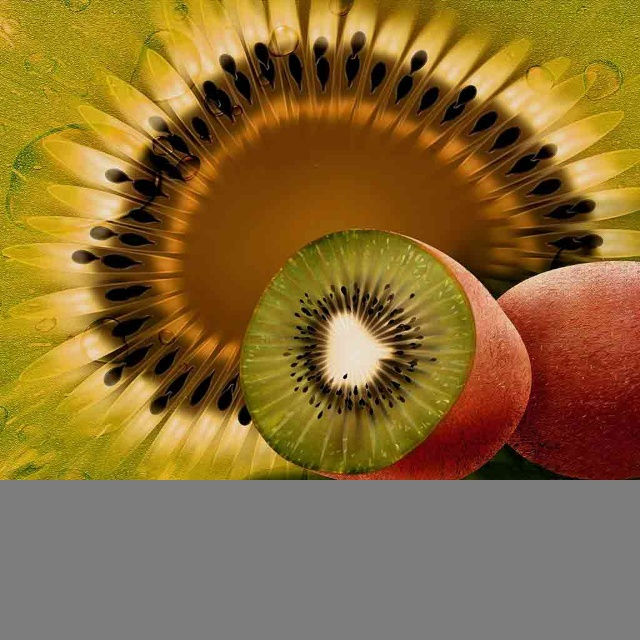kiwi: (71, 15, 587, 258), (245, 232, 530, 473), (503, 263, 640, 479)
